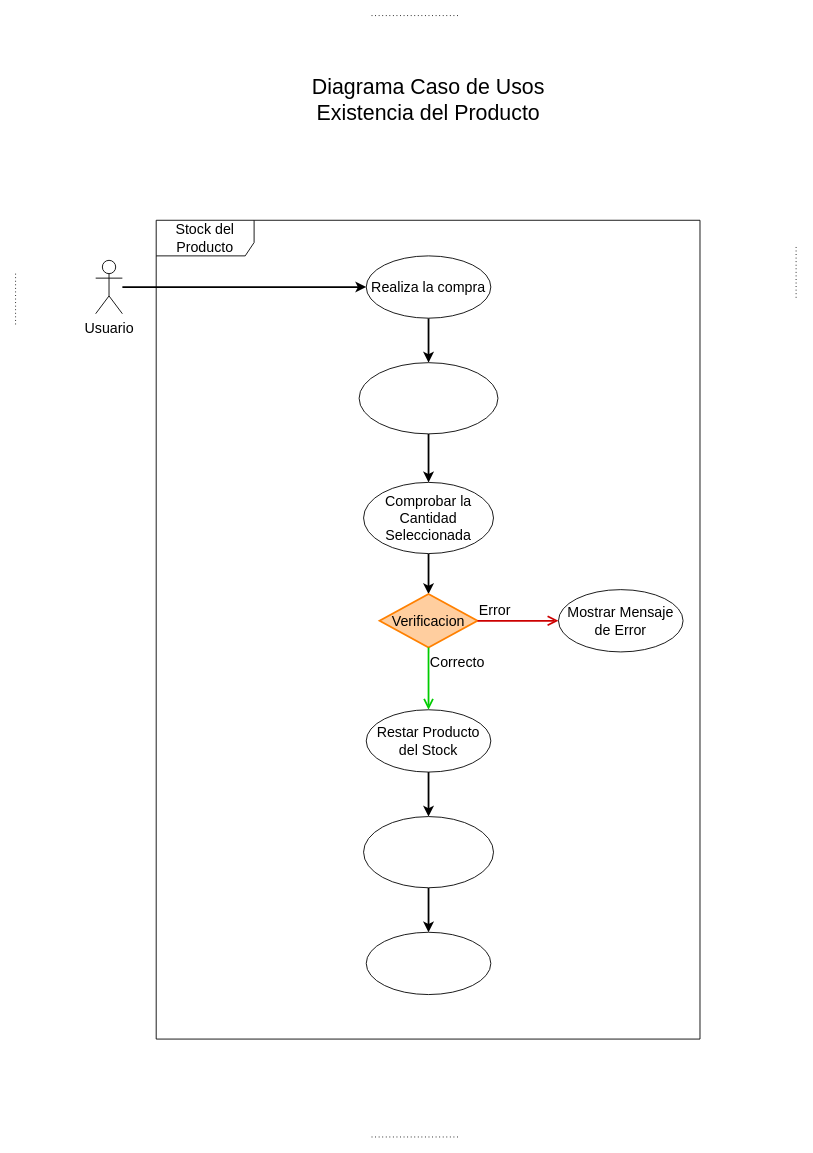
This 813x1153 diagram has some shape labels left out. Here are the shapes that lost their labels. From the top down, the centre of each, then its label:
the point at 428,398: Verificar Existencia del Producto
the point at 428,852: Actualizar Stock de la DB
the point at 428,963: Registrar Transacción
